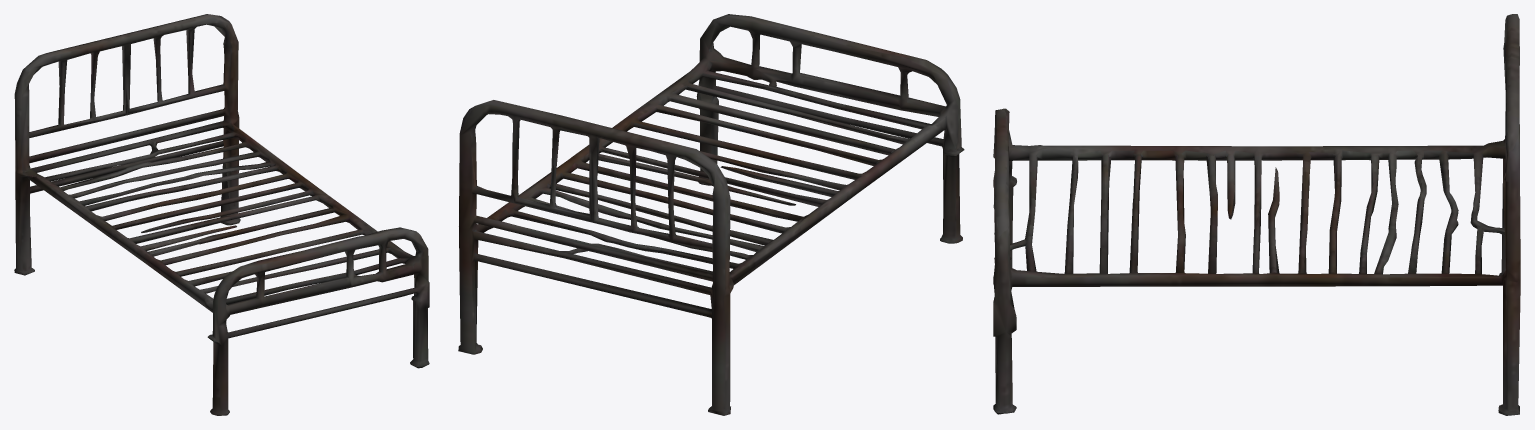
File: weathered-iron-asylum-bed-v002.glb
3 views of the same model, side by side, from view 1: azimuth 30°, elevation 25°; view 2: azimuth 150°, elevation 25°; view 3: azimuth 270°, elevation 25° (orthographic). The views are drawn at different scales.
Visible parts, largest first — view 1: weathered-iron-asylum-bed; view 2: weathered-iron-asylum-bed; view 3: weathered-iron-asylum-bed.
Part boxes in pixels (x1,y1,x2,y2): weathered-iron-asylum-bed: (14,14,429,415); weathered-iron-asylum-bed: (458,14,964,415); weathered-iron-asylum-bed: (993,14,1520,415).
Bounding box in the file's own units: 1.19 × 1.08 × 1.85.
Materials: 1 (1 with a texture image).
